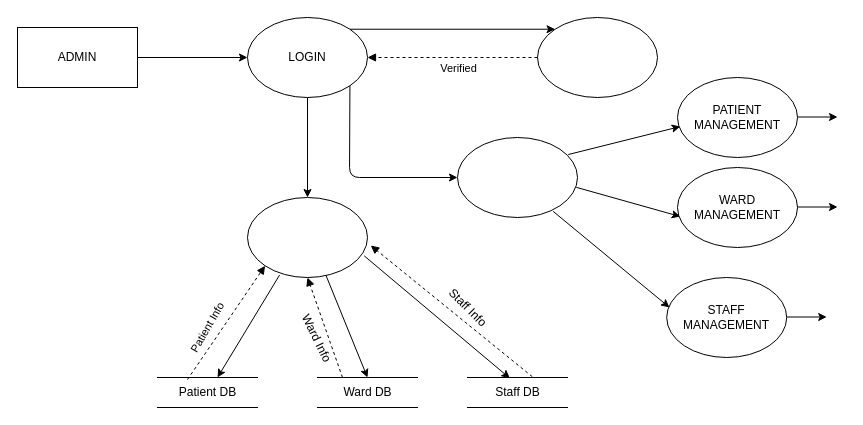
Some shapes in this 863 by 425 pixel diagram are drawn without their labels. Here are the shapes that lost their labels. From the top down, the box of each, then its label:
(536, 16, 658, 98): LOGIN VERIFICATION
(456, 136, 578, 218): MANAGE DATA
(246, 196, 368, 278): VIEW DATA
